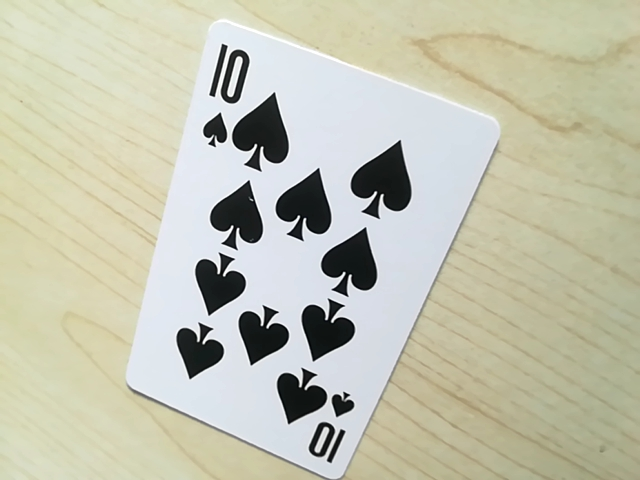ht 10: (194, 33, 253, 160), (299, 397, 359, 472)
